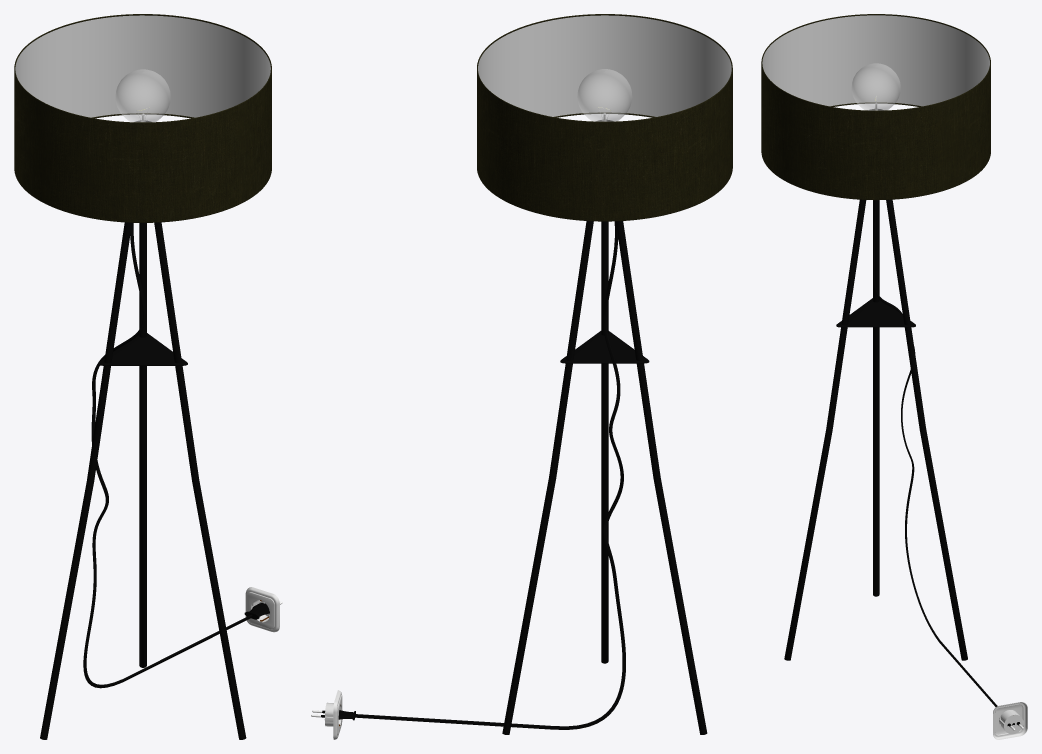
File: floor_lamp.glb
The picture shows the model from 3 angles, left to right: view 1: azimuth 30°, elevation 25°; view 2: azimuth 150°, elevation 25°; view 3: azimuth 270°, elevation 25°; orthographic projection. The views are drawn at different scales.
Parts seen in each view (by area): view 1: Lamp-Shade_0, Legs_2, Cable_4, LightBulb_5, Triangle-Leg-Connector_3, Electrical-Plug_6; view 2: Lamp-Shade_0, Legs_2, Cable_4, LightBulb_5, Triangle-Leg-Connector_3; view 3: Lamp-Shade_0, Legs_2, LightBulb_5, Cable_4, Triangle-Leg-Connector_3, Electrical-Plug_6.
Part boxes in pixels (x1,y1,x2,y2): Lamp-Shade_0: [14, 14, 271, 222]; Legs_2: [40, 222, 246, 739]; Cable_4: [83, 222, 282, 688]; LightBulb_5: [115, 69, 170, 122]; Triangle-Leg-Connector_3: [98, 333, 187, 365]; Electrical-Plug_6: [245, 587, 279, 632]; Lamp-Shade_0: [477, 14, 732, 221]; Legs_2: [502, 221, 707, 734]; Cable_4: [311, 221, 625, 729]; LightBulb_5: [577, 69, 632, 121]; Triangle-Leg-Connector_3: [560, 331, 649, 363]; Lamp-Shade_0: [761, 14, 990, 200]; Legs_2: [784, 199, 967, 660]; LightBulb_5: [851, 63, 900, 110]; Cable_4: [873, 200, 1023, 730]; Triangle-Leg-Connector_3: [836, 298, 915, 327]; Electrical-Plug_6: [993, 702, 1027, 739].
Size of the model in its own units: 4.03 by 7.77 by 3.18.
Materials: 12 (1 with a texture image).
